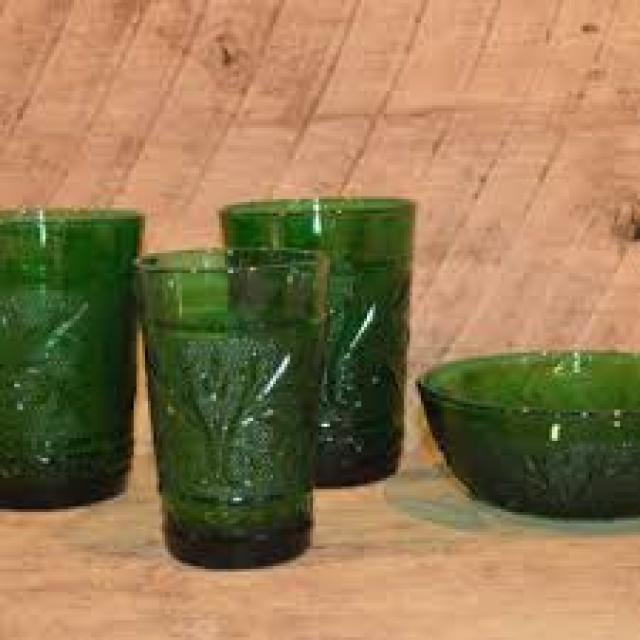glass: (128, 245, 327, 566), (214, 197, 416, 487), (0, 204, 139, 509), (413, 350, 637, 518)
